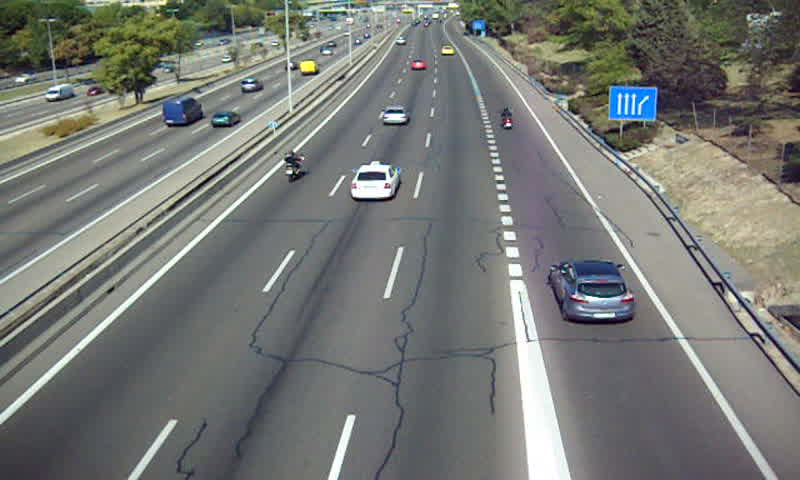car: (549, 260, 636, 323), (350, 163, 399, 199), (380, 105, 408, 126), (410, 58, 428, 72), (440, 45, 455, 56)
motorcycle: (282, 149, 304, 184), (500, 106, 516, 131)
